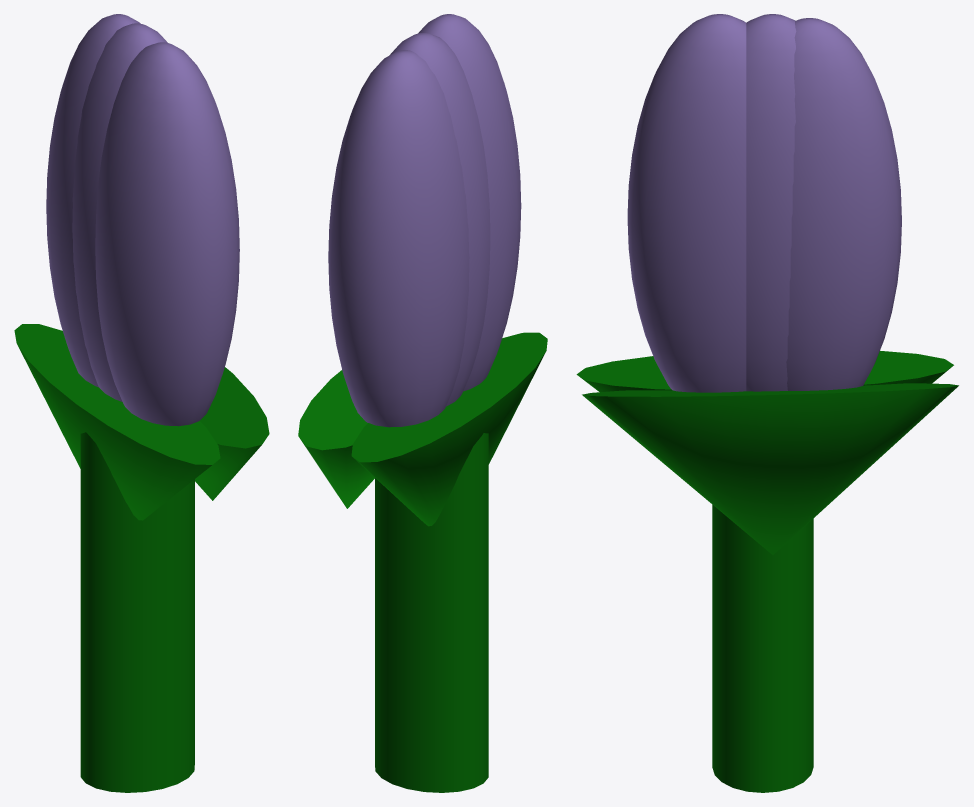
The model's file is Tulip.fbx.
3 views of the same model, side by side, from view 1: azimuth 30°, elevation 25°; view 2: azimuth 150°, elevation 25°; view 3: azimuth 270°, elevation 25° (orthographic). The views are drawn at different scales.
Parts seen in each view (by area): view 1: Tulip_Right, Tulip_Base, Top_Stem2, Tulip_Middle, Tulip_Left, Top_Stem1; view 2: Tulip_Left, Tulip_Base, Top_Stem2, Tulip_Right, Tulip_Middle, Top_Stem1; view 3: Tulip_Right, Tulip_Left, Top_Stem1, Tulip_Base, Tulip_Middle, Top_Stem2.
Part boxes in pixels (x1,y1,x2,y2): Tulip_Right: (95,42,239,426); Tulip_Base: (80,432,194,792); Top_Stem2: (14,324,220,520); Tulip_Middle: (72,23,167,401); Tulip_Left: (46,14,140,387); Top_Stem1: (195,367,269,500); Tulip_Left: (328,50,469,427); Tulip_Base: (375,433,488,792); Top_Stem2: (351,332,547,526); Tulip_Right: (418,14,521,391); Tulip_Middle: (389,33,490,406); Top_Stem1: (298,370,374,508); Tulip_Right: (627,14,746,392); Tulip_Left: (786,18,901,390); Top_Stem1: (582,383,958,554); Tulip_Base: (712,505,813,792); Tulip_Middle: (746,14,796,391); Top_Stem2: (576,350,953,392).
Bounding box in the file's own units: 0.3568 × 1.8 × 0.8286.
